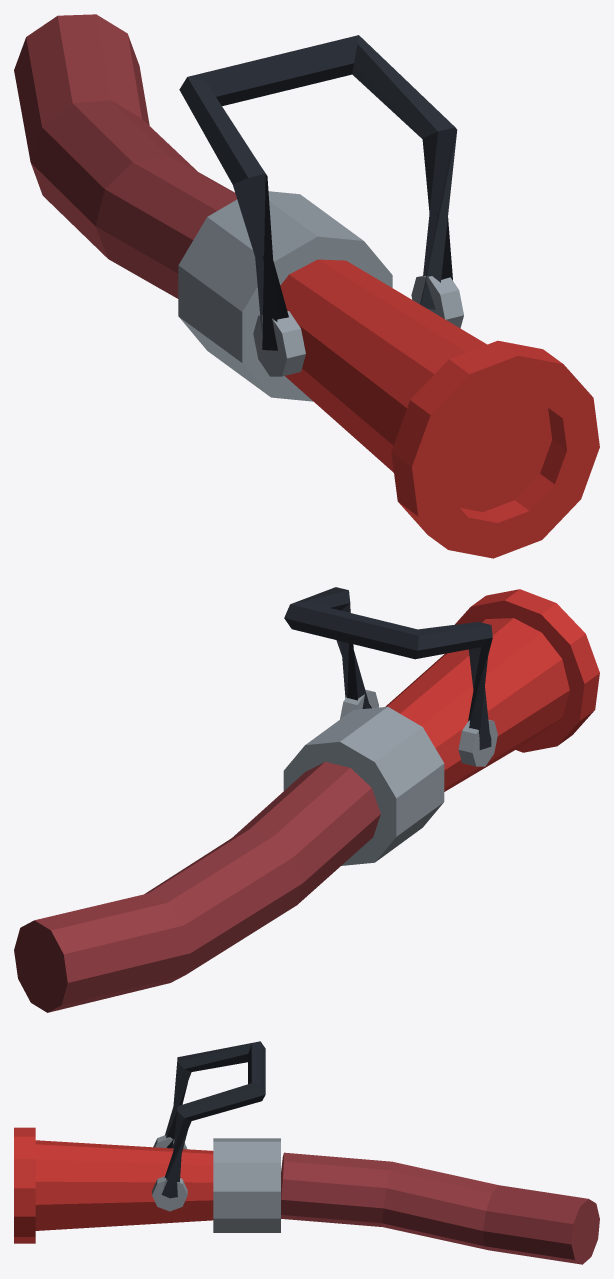
Rendered from Hose.fbx.
The picture shows the model from 3 angles, top to bottom: view 1: azimuth 30°, elevation 25°; view 2: azimuth 150°, elevation 25°; view 3: azimuth 270°, elevation 25°; orthographic projection. The views are drawn at different scales.
Visible parts, largest first — view 1: Body; view 2: Body; view 3: Body.
Boxes of the visible parts, box(x1,y1,x2,y2) form: Body: box(14, 14, 599, 558); Body: box(14, 587, 599, 1012); Body: box(14, 1041, 599, 1264).
Size of the model in its own units: 0.3444 by 0.3978 by 1.21.
